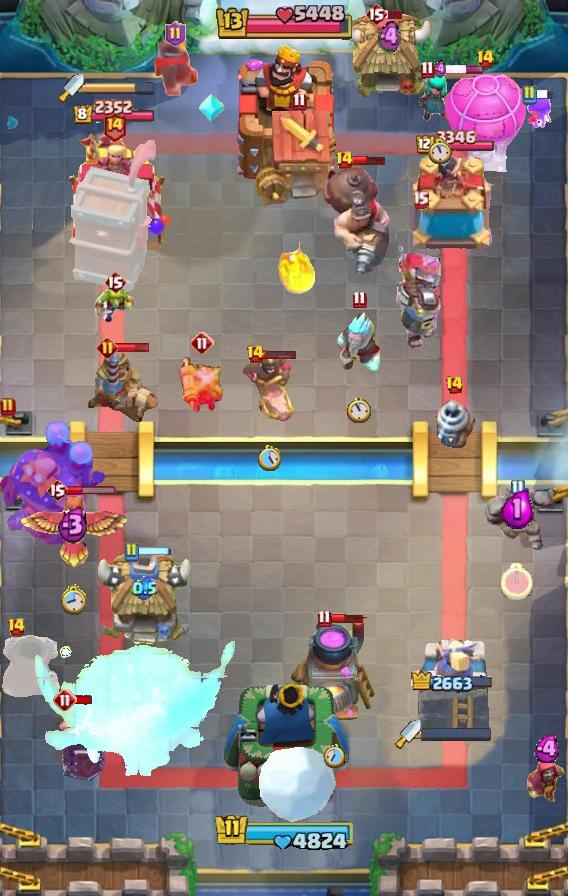bar: (55, 126, 173, 256), (416, 637, 490, 731)
bowler: (524, 756, 568, 808)
cannon-cart: (441, 67, 529, 175)
clock: (210, 812, 358, 854), (213, 5, 355, 43)
dart-goblin: (69, 138, 159, 294)
electro-spirit: (501, 487, 535, 528), (57, 504, 89, 543), (534, 735, 563, 763), (379, 21, 402, 56), (131, 575, 156, 601), (434, 61, 446, 79)
elixir: (501, 564, 533, 601), (59, 583, 87, 615), (428, 139, 452, 166), (347, 397, 371, 423), (258, 445, 281, 471), (323, 744, 344, 768)
elixir-golem-big: (54, 701, 108, 783)
emote: (431, 64, 485, 76), (67, 484, 118, 496), (351, 154, 387, 165), (329, 612, 365, 623), (114, 343, 149, 354), (263, 348, 298, 359), (137, 546, 172, 557), (384, 8, 404, 20), (535, 89, 554, 101), (74, 694, 93, 706)
firecracker: (153, 38, 199, 96)
freeze: (241, 352, 297, 422)
goblin: (521, 92, 555, 132)
goblin-drill: (432, 398, 476, 450)
golden-knight: (17, 494, 129, 572)
hunter: (289, 617, 379, 725)
king-tower: (219, 678, 349, 826), (230, 43, 338, 181)
king-tower-bar: (84, 81, 156, 95), (421, 727, 493, 741)
little-prince: (0, 420, 108, 546)
mega-knight: (13, 628, 235, 802)
mortar: (334, 311, 384, 375)
musketeer: (0, 632, 62, 700)
pad_2: (198, 92, 226, 124)
prince: (93, 553, 195, 649), (342, 11, 436, 101)
queen-tower: (407, 156, 499, 256)
ram-rider: (83, 344, 161, 424)
selected: (72, 98, 156, 126), (414, 130, 495, 156), (411, 670, 495, 695)
sparky: (256, 110, 342, 208)
text: (101, 111, 126, 141), (190, 331, 214, 355), (53, 688, 77, 712), (165, 21, 186, 47), (365, 2, 387, 26), (104, 270, 126, 294), (46, 478, 68, 502), (98, 337, 119, 359), (6, 617, 26, 637), (477, 49, 496, 69), (335, 150, 354, 170), (246, 344, 265, 364), (445, 375, 464, 395), (412, 190, 429, 209), (521, 85, 537, 105), (0, 397, 16, 417), (123, 542, 139, 562), (317, 609, 332, 627), (293, 92, 307, 111), (353, 290, 367, 309), (421, 61, 435, 79), (511, 479, 525, 497)
tombstone: (179, 355, 225, 417)
valkyrie: (276, 232, 318, 298)
valkyrie-evolution: (481, 486, 553, 556)
wall-breaker: (257, 744, 339, 824)
wall-breaker-evolution: (385, 212, 456, 350)
witch: (417, 70, 463, 122)
wizard: (321, 164, 391, 274)
zap: (94, 289, 136, 325)
